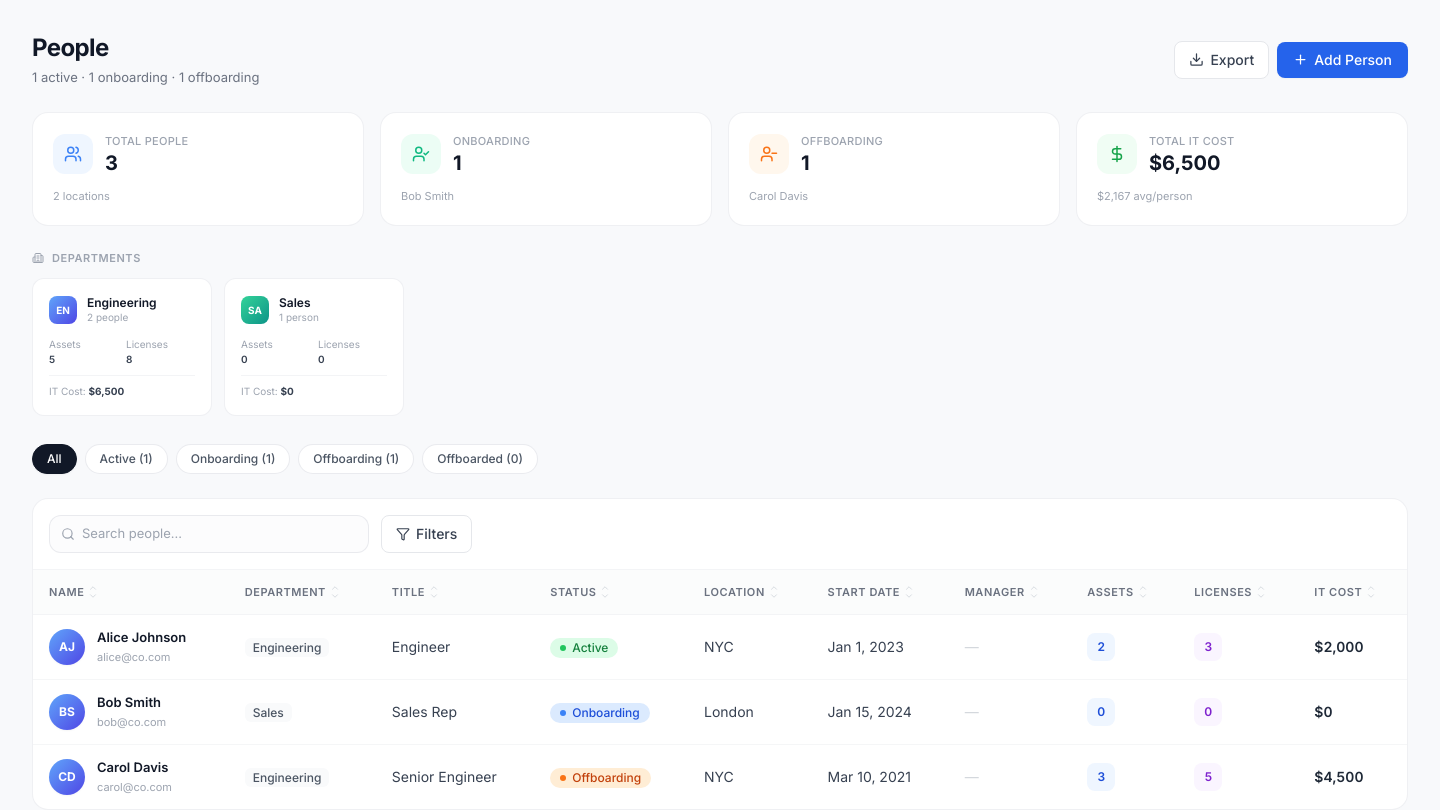
Test case: PeopleList page › filters to only "Active" people when the Active pill is clicked
Click the button "Active (1)": (126, 459) [85,444,168,474]
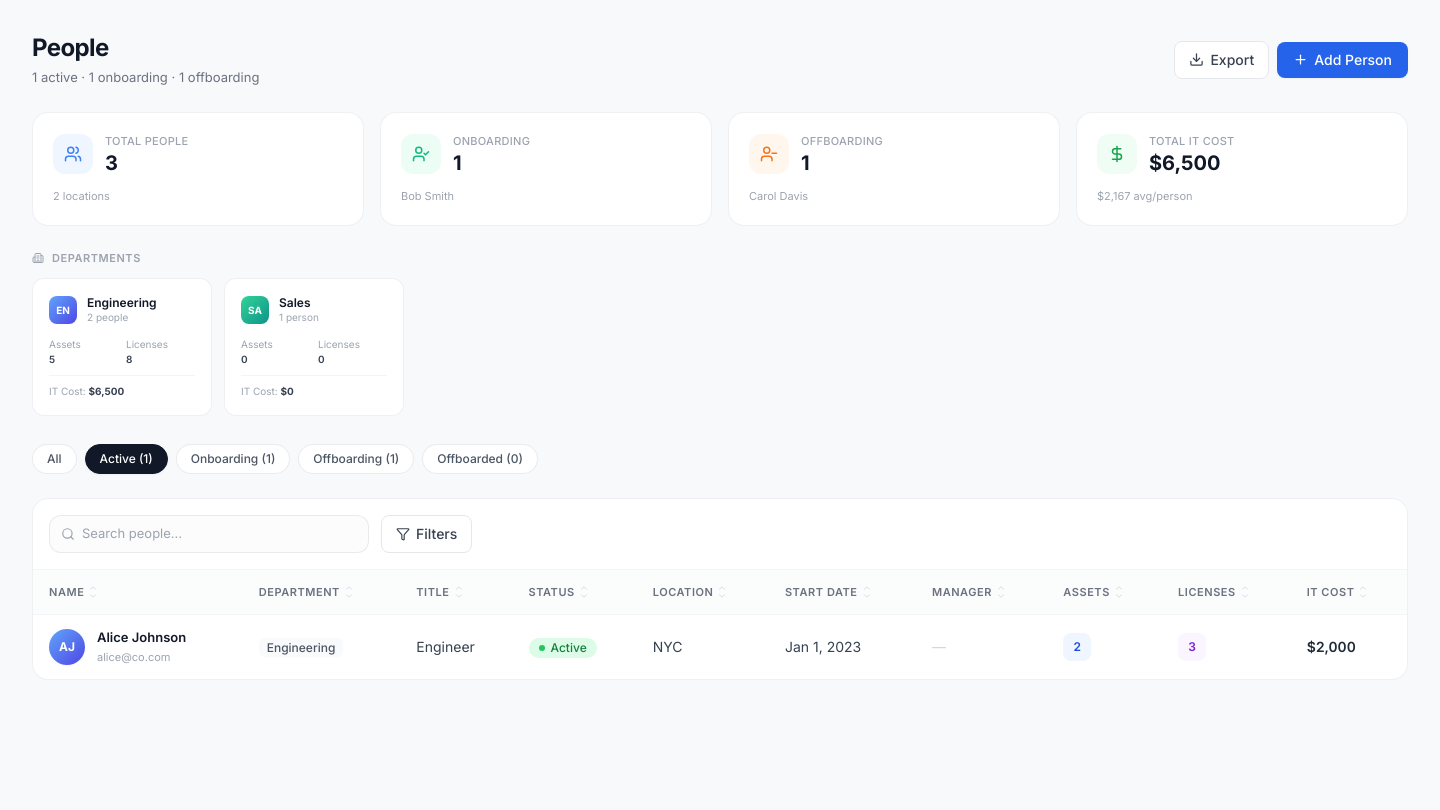
expect the text "alice@co.com" is shown: met, box [97,650,170,664]
expect the text "bob@co.com" is gone: met
expect the text "carol@co.com" is gone: met
